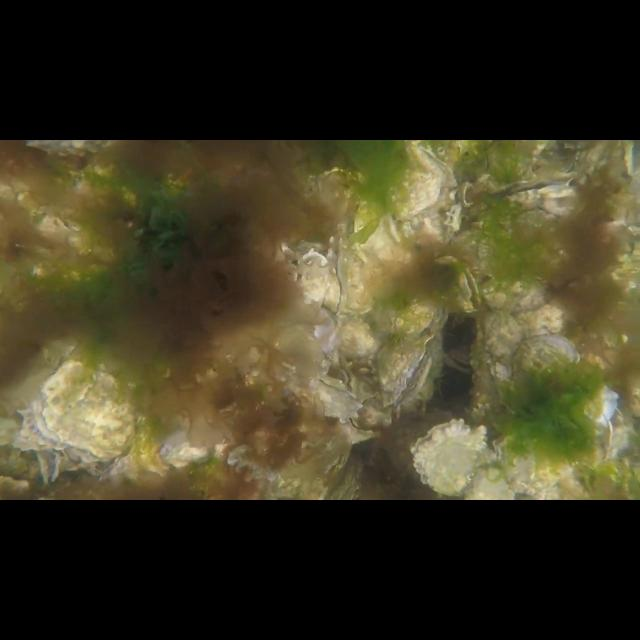Oyster-Closed: (30, 362, 132, 464), (511, 334, 617, 426), (492, 428, 574, 496), (352, 197, 404, 291), (478, 309, 524, 407), (387, 140, 443, 220), (280, 374, 362, 424), (334, 309, 378, 376), (479, 272, 547, 314), (343, 245, 373, 318), (158, 432, 208, 468)
Oyster-Open: (410, 419, 488, 497), (488, 176, 578, 228), (378, 336, 434, 406), (391, 298, 449, 344), (292, 248, 328, 304), (326, 236, 346, 314), (334, 416, 380, 444), (458, 268, 482, 314), (614, 140, 638, 186), (320, 360, 350, 392)
